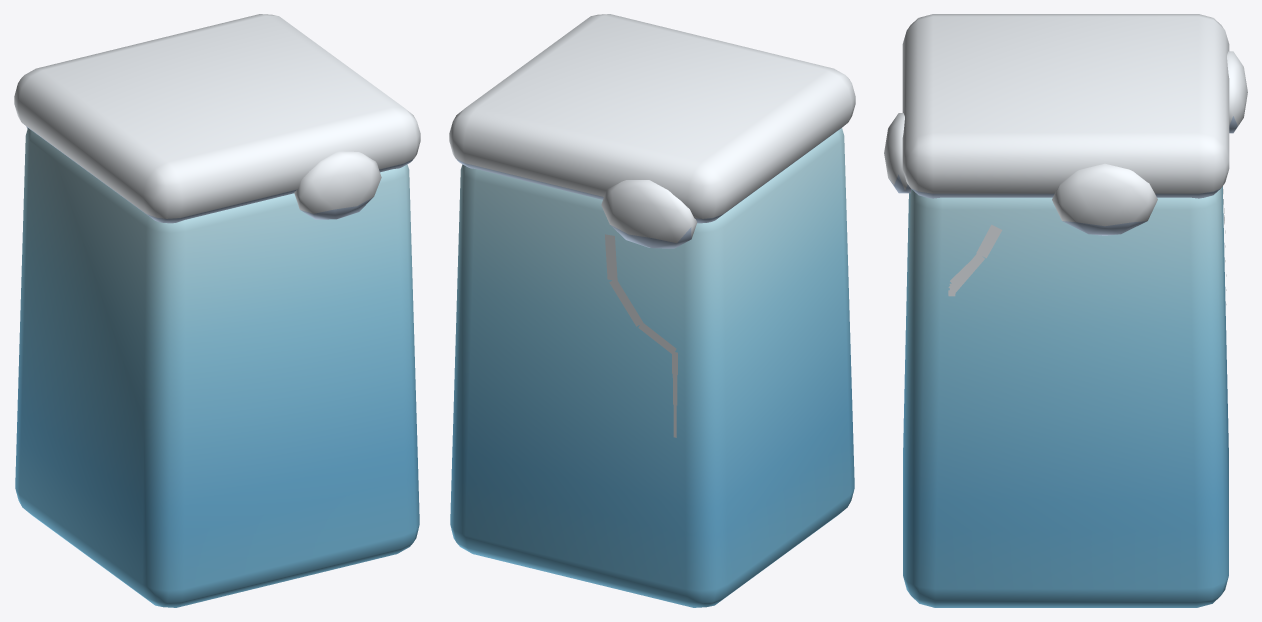
File: GlacierBlockB.fbx
The picture shows the model from 3 angles, left to right: view 1: azimuth 30°, elevation 25°; view 2: azimuth 150°, elevation 25°; view 3: azimuth 270°, elevation 25°; orthographic projection. The views are drawn at different scales.
Parts seen in each view (by area): view 1: GlacierBlockB; view 2: GlacierBlockB; view 3: GlacierBlockB.
Boxes of the visible parts, left/top/right/bottom form: GlacierBlockB: left=14, top=14, right=420, bottom=607; GlacierBlockB: left=449, top=14, right=855, bottom=607; GlacierBlockB: left=884, top=14, right=1247, bottom=607.
Bounding box in the file's own units: 1.51 × 2.23 × 1.56.
1 material, 1 textured.
